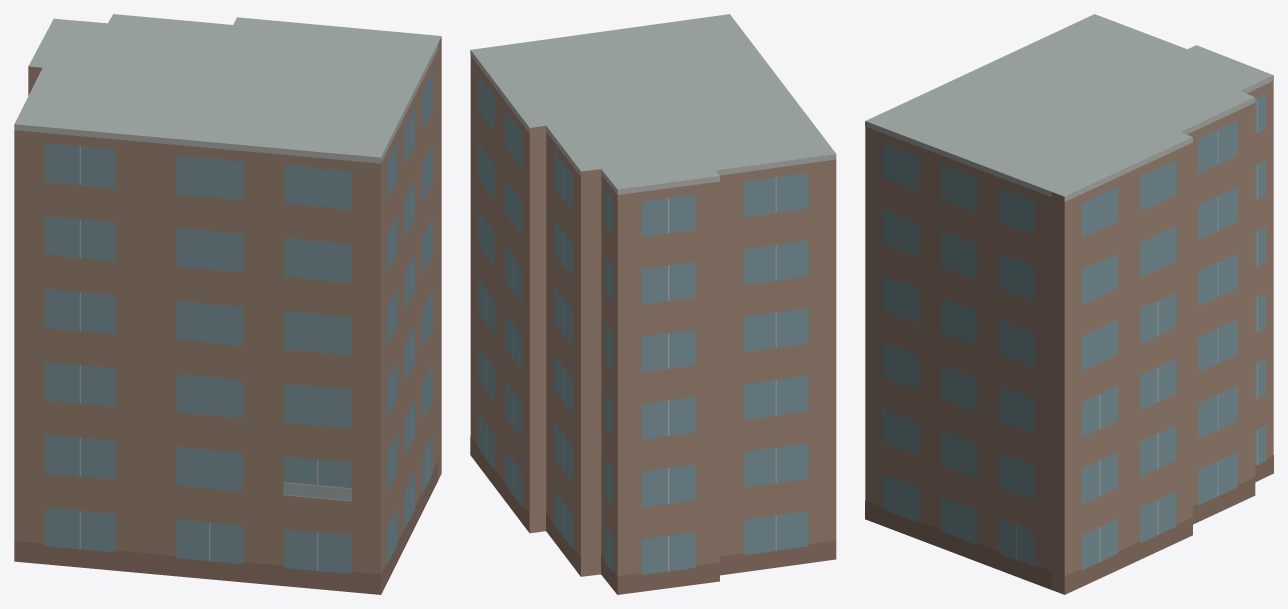
Rendered from survey-upis-33007937.glb.
3 renders of one model, left to right at view 1: azimuth 30°, elevation 25°; view 2: azimuth 150°, elevation 25°; view 3: azimuth 270°, elevation 25°, orthographic. The views are drawn at different scales.
Visible parts, largest first — view 1: survey-upis-33007937.tmp; view 2: survey-upis-33007937.tmp; view 3: survey-upis-33007937.tmp.
Part boxes in pixels (x1,y1,x2,y2): survey-upis-33007937.tmp: (14, 14, 441, 594); survey-upis-33007937.tmp: (470, 14, 836, 594); survey-upis-33007937.tmp: (865, 14, 1273, 594).
Size of the model in its own units: 17.72 by 18 by 16.74.
